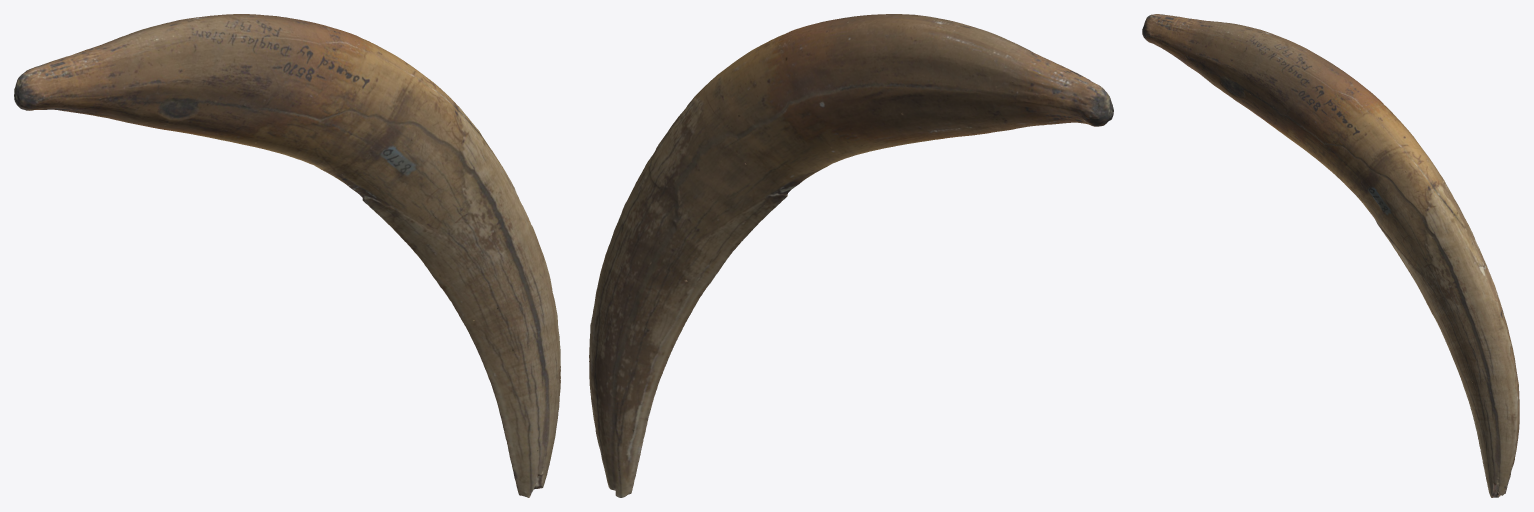
3 views of the same model, side by side, from view 1: azimuth 30°, elevation 25°; view 2: azimuth 150°, elevation 25°; view 3: azimuth 330°, elevation 25° (orthographic). The views are drawn at different scales.
Visible parts, largest first — view 1: specimen; view 2: specimen; view 3: specimen.
Boxes of the visible parts, x1,y1,x2,y2 form: specimen: (14, 14, 560, 497); specimen: (589, 14, 1113, 497); specimen: (1142, 14, 1519, 497).
Bounding box in the file's own units: 0.172 × 0.1717 × 0.0232.
1 material, 1 textured.
